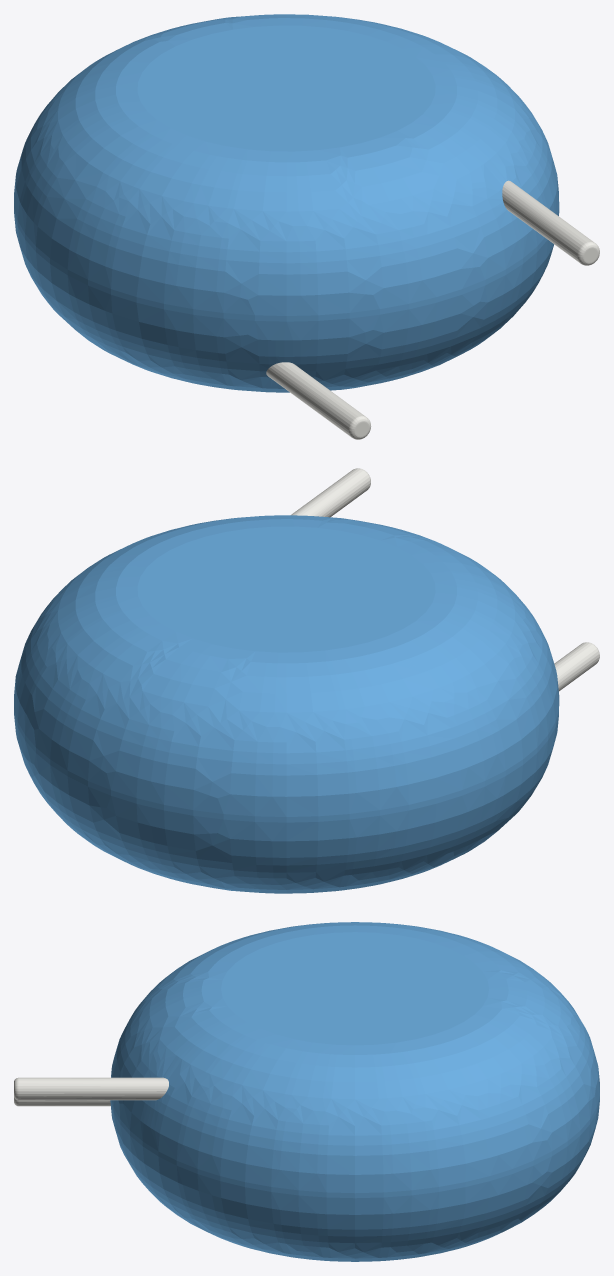
File: RV_Disc_D15.5mm_W7.2mm_P7.5mm.glb
3 renders of one model, top to bottom at view 1: azimuth 30°, elevation 25°; view 2: azimuth 150°, elevation 25°; view 3: azimuth 270°, elevation 25°, orthographic. The views are drawn at different scales.
Parts seen in each view (by area): view 1: Shape_IndexedFaceSet.001, Shape_IndexedFaceSet.002, Shape_IndexedFaceSet.003, Shape_IndexedFaceSet, Shape_IndexedFaceSet.004, Shape_IndexedFaceSet.006; view 2: Shape_IndexedFaceSet.001, Shape_IndexedFaceSet.002, Shape_IndexedFaceSet.003, Shape_IndexedFaceSet, Shape_IndexedFaceSet.004, Shape_IndexedFaceSet.006; view 3: Shape_IndexedFaceSet.001, Shape_IndexedFaceSet.002, Shape_IndexedFaceSet.003, Shape_IndexedFaceSet.004, Shape_IndexedFaceSet, Shape_IndexedFaceSet.006.
Boxes of the visible parts, box(x1,y1,x2,y2) form: Shape_IndexedFaceSet.001: box(14, 14, 559, 315); Shape_IndexedFaceSet.002: box(14, 213, 558, 392); Shape_IndexedFaceSet.003: box(137, 25, 435, 151); Shape_IndexedFaceSet: box(14, 208, 559, 321); Shape_IndexedFaceSet.004: box(502, 180, 593, 262); Shape_IndexedFaceSet.006: box(266, 362, 365, 436); Shape_IndexedFaceSet.001: box(14, 515, 559, 816); Shape_IndexedFaceSet.002: box(14, 715, 558, 893); Shape_IndexedFaceSet.003: box(137, 526, 435, 652); Shape_IndexedFaceSet: box(14, 701, 559, 822); Shape_IndexedFaceSet.004: box(291, 468, 370, 517); Shape_IndexedFaceSet.006: box(554, 642, 599, 691); Shape_IndexedFaceSet.001: box(111, 922, 599, 1193); Shape_IndexedFaceSet.002: box(110, 1101, 599, 1261); Shape_IndexedFaceSet.003: box(221, 932, 489, 1045); Shape_IndexedFaceSet.004: box(18, 1077, 168, 1100); Shape_IndexedFaceSet: box(110, 1096, 599, 1198); Shape_IndexedFaceSet.006: box(18, 1100, 110, 1106).
Bounding box in the file's own units: 6.1 × 2.84 × 7.29.
